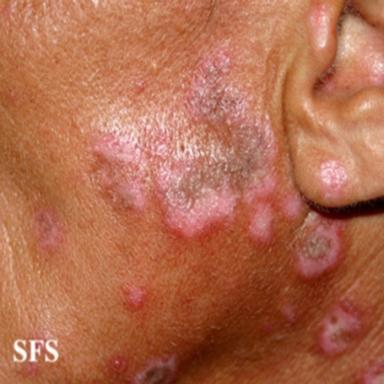Lupus-Erythematosus-Chronicus-Discoides: (91, 54, 305, 244), (291, 211, 344, 280), (319, 304, 363, 356), (32, 204, 66, 257), (133, 351, 179, 382), (319, 160, 349, 194), (120, 281, 150, 311)
